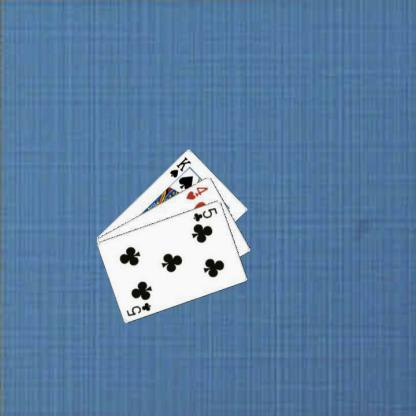4H: (184, 184, 209, 201)
5C: (191, 205, 218, 223), (124, 300, 152, 317)
KS: (167, 154, 192, 178)
